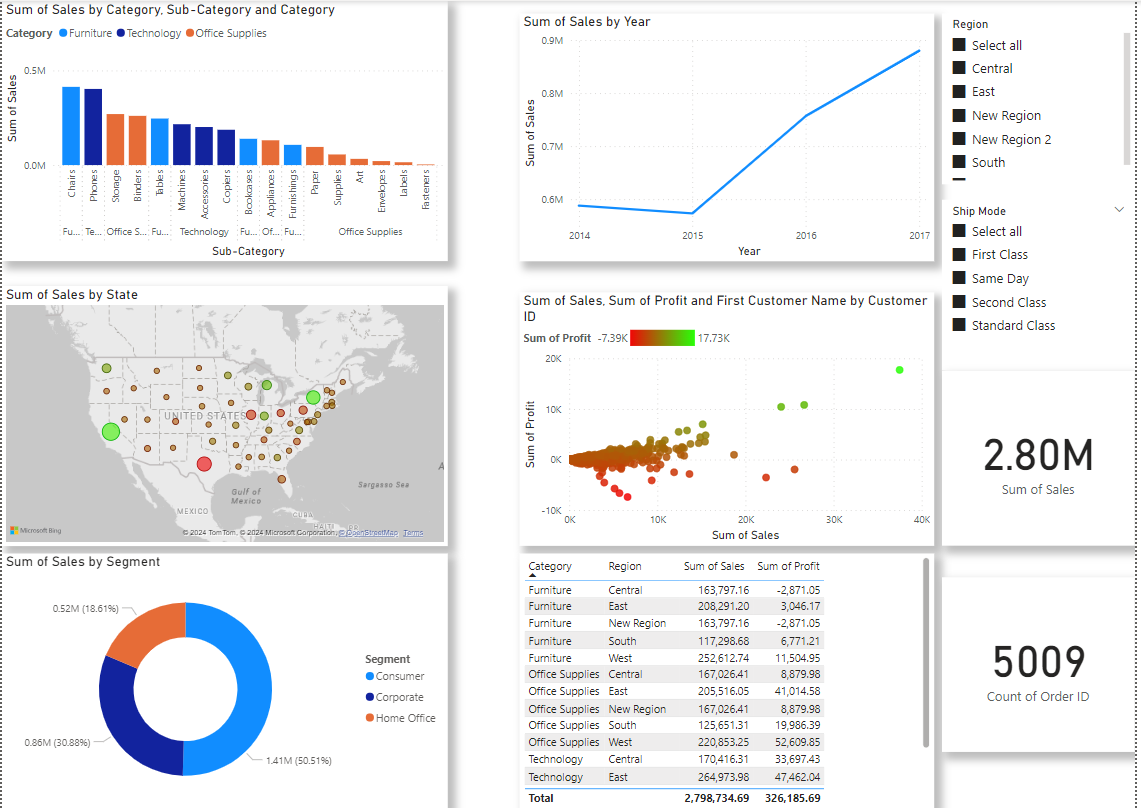

Layout of this report page (visuals, bound fields, positions):
{"tool":"powerbi","page":{"name":"Page 1","canvas":[1400,1000],"ordinal":0},"visuals":[{"type":"columnChart","fields":{"Category":["Orders.Category","Orders.Sub-Category"],"Y":["Sum(Orders.Sales)"],"Series":["Orders.Category"]},"box":[0,0,551.1,321.6],"z":0},{"type":"lineChart","fields":{"Y":["Sum(Orders.Sales)"],"Category":["Orders.Order Date.Variation.Date Hierarchy.Year","Orders.Order Date.Variation.Date Hierarchy.Quarter","Orders.Order Date.Variation.Date Hierarchy.Month","Orders.Order Date.Variation.Date Hierarchy.Day"]},"box":[639.9,15.1,512.6,306.5],"z":1000},{"type":"map","fields":{"Category":["Orders.Country","Orders.State","Orders.City"],"Size":["Sum(Orders.Sales)"]},"box":[0,351.8,551.1,321.6],"z":2000},{"type":"scatterChart","fields":{"Category":["Orders.Customer ID"],"X":["Sum(Orders.Sales)"],"Y":["Sum(Orders.Profit)"]},"box":[639.9,360.1,512.6,313.2],"z":3000},{"type":"donutChart","fields":{"Category":["Orders.Segment"],"Y":["Sum(Orders.Sales)"]},"box":[0,683.4,551.1,316.6],"z":4000},{"type":"tableEx","fields":{"Values":["Orders.Category","Orders.Region","Sum(Orders.Sales)","Sum(Orders.Profit)"]},"box":[639.9,683.4,512.6,316.6],"z":5000},{"type":"slicer","fields":{"Values":["Orders.Region"]},"box":[1162.5,15.1,237.9,211.1],"z":6000},{"type":"slicer","fields":{"Values":["Orders.Ship Mode"]},"box":[1162.5,246.2,237.9,211.1],"z":7000},{"type":"card","fields":{"Values":["Sum(Orders.Sales)"]},"box":[1162,457,238,216],"z":8000},{"type":"card","fields":{"Values":["Count(Orders.Order ID)"]},"box":[1162,712,238,216],"z":9000}]}

Visuals, with their boxes in screenshot pixels (x1, y1, x2, y2), scaled from the page's 1400x1000 canvas onto the 1141x808 screenshot:
columnChart - Orders.Category x Orders.Sub-Category: Rect(0, 0, 449, 260)
lineChart - Sum(Orders.Sales) x Orders.Order Date.Variation.Date Hierarchy.Year: Rect(522, 12, 939, 260)
map - Orders.Country x Orders.State: Rect(0, 284, 449, 544)
scatterChart - Orders.Customer ID x Sum(Orders.Sales): Rect(522, 291, 939, 544)
donutChart - Orders.Segment x Sum(Orders.Sales): Rect(0, 552, 449, 807)
tableEx - Orders.Category x Orders.Region: Rect(522, 552, 939, 807)
slicer - Orders.Region: Rect(947, 12, 1140, 183)
slicer - Orders.Ship Mode: Rect(947, 199, 1140, 369)
card - Sum(Orders.Sales): Rect(947, 369, 1140, 544)
card - Count(Orders.Order ID): Rect(947, 575, 1140, 750)
